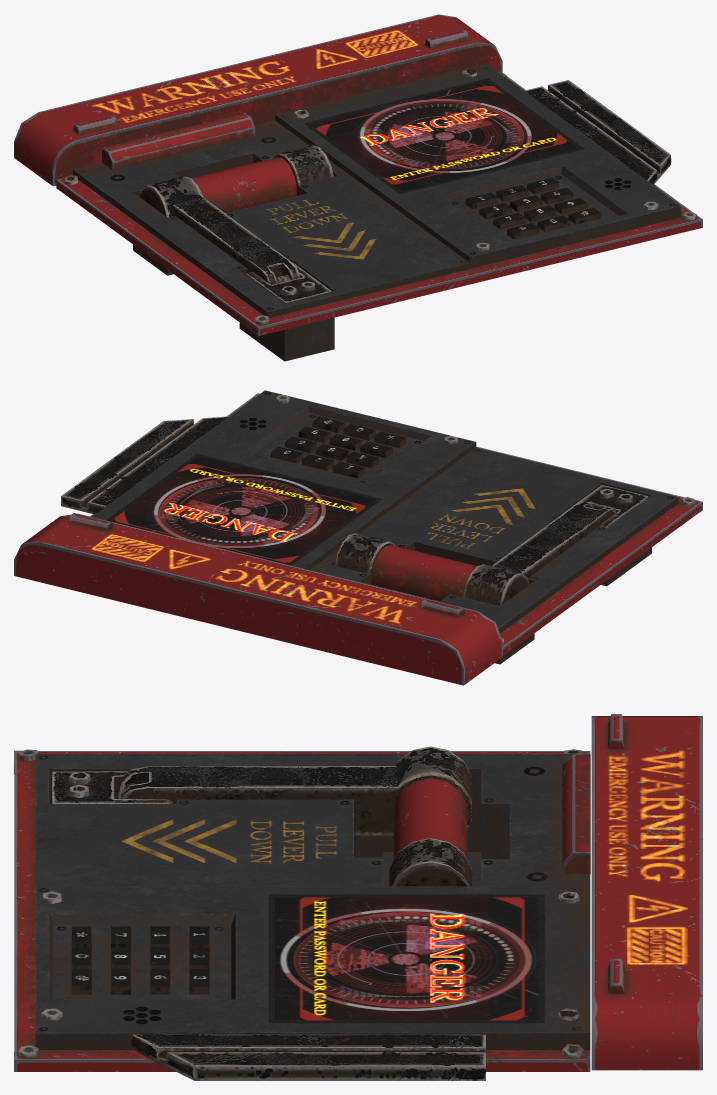
File: warning.glb
3 views of the same model, one above another, from view 1: azimuth 30°, elevation 25°; view 2: azimuth 150°, elevation 25°; view 3: azimuth 270°, elevation 25° (orthographic). The views are drawn at different scales.
Visible parts, largest first — view 1: body_low, body_small_low, knob_low, kart_low, big_low, detail_low; view 2: body_low, body_small_low, knob_low, kart_low, detail_low, small_1_low, small_2_low; view 3: body_low, body_small_low, knob_low, kart_low, big_low, detail_low, small_2_low, small_1_low.
Boxes of the visible parts, x1,y1,x2,y2 form: body_low: (56,63,702,361); body_small_low: (14,14,502,186); knob_low: (139,145,333,284); kart_low: (524,80,671,184); big_low: (102,113,255,169); detail_low: (244,262,331,303); body_low: (90,390,702,664); body_small_low: (14,513,502,685); knob_low: (334,501,616,605); kart_low: (61,416,228,514); detail_low: (561,485,648,527); small_1_low: (69,513,113,531); small_2_low: (421,599,465,617); body_low: (14,750,590,1071); body_small_low: (591,716,702,1070); knob_low: (118,746,472,886); kart_low: (131,1034,485,1080); big_low: (562,753,590,873); detail_low: (51,771,173,803); small_2_low: (608,714,624,749); small_1_low: (608,958,624,993).
Size of the model in its own units: 0.1496 by 0.0275 by 0.1308.
2 materials, 2 textured.
